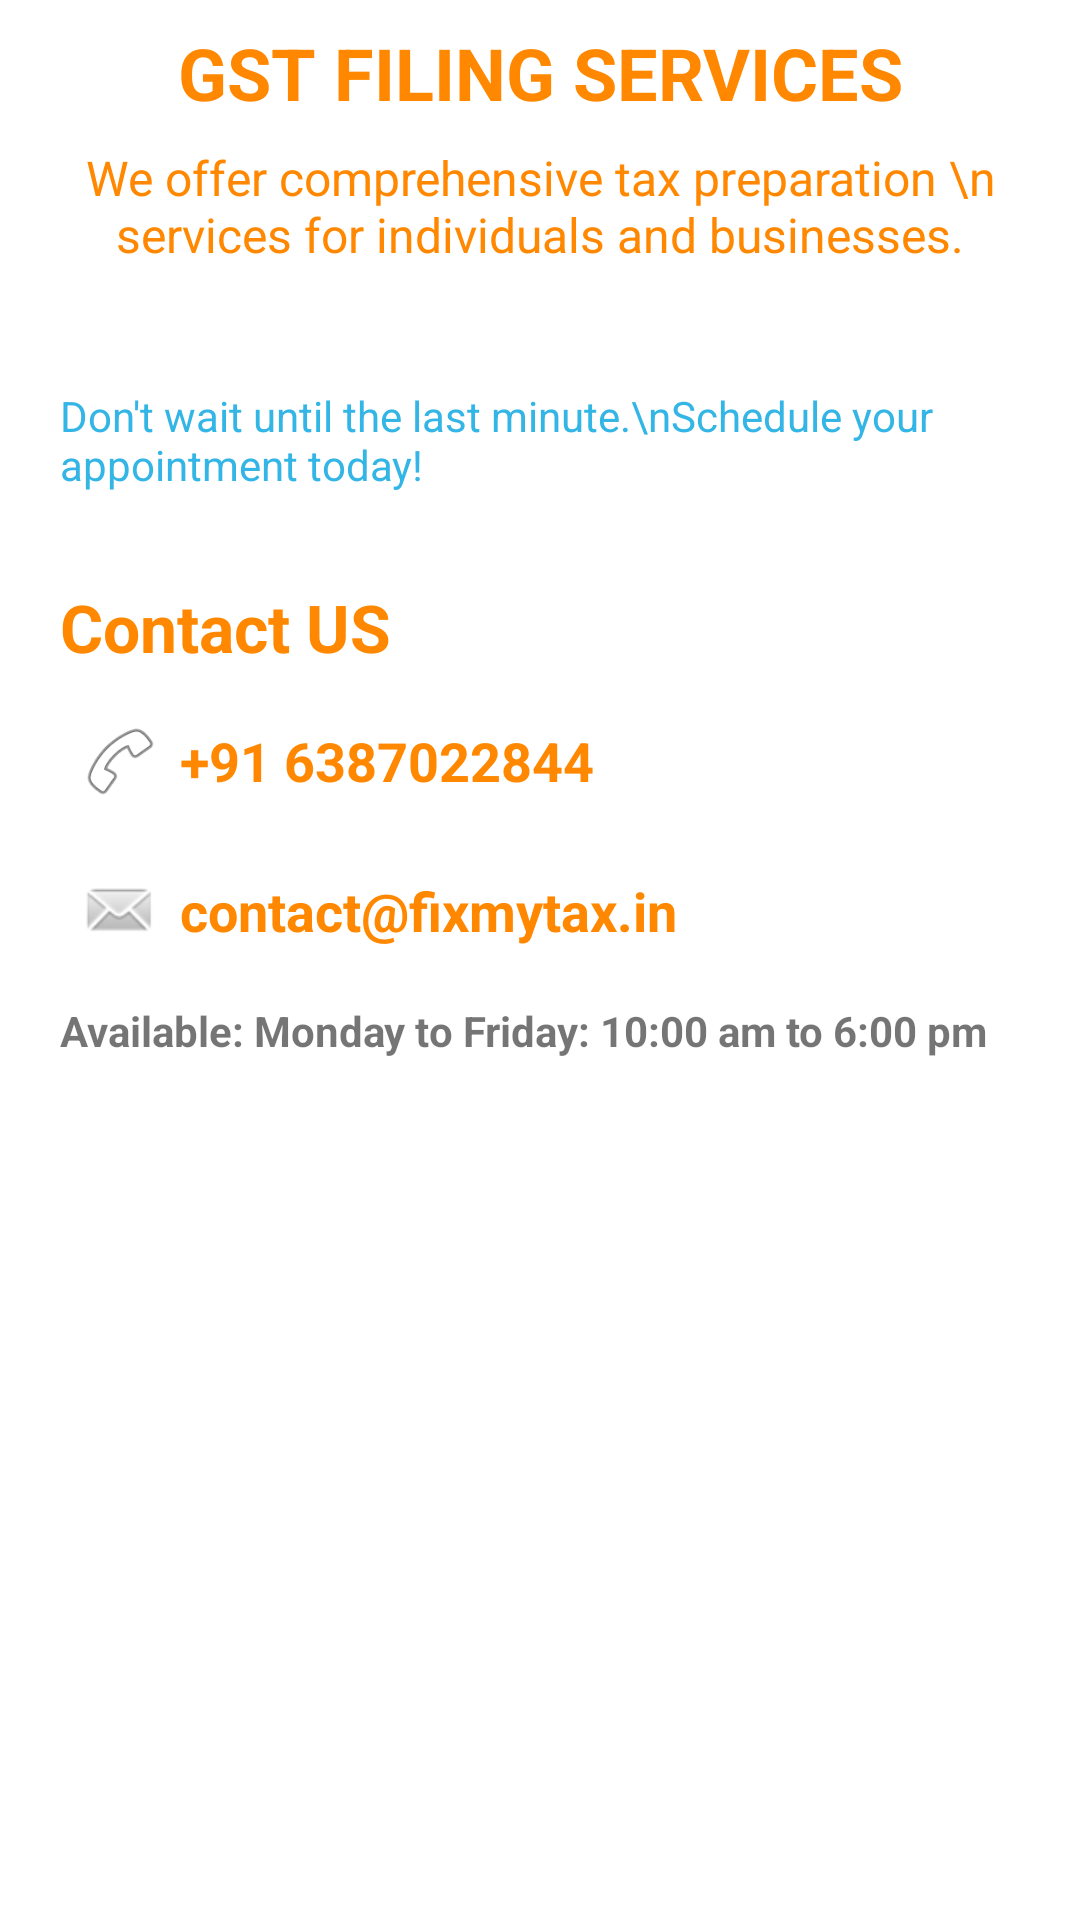

Named icons in this screenshot (1080 × 1920) and their bounding boxes, (x1, y1, x2, y2):
call: (88, 729, 153, 794)
sym action email: (87, 889, 151, 931)
